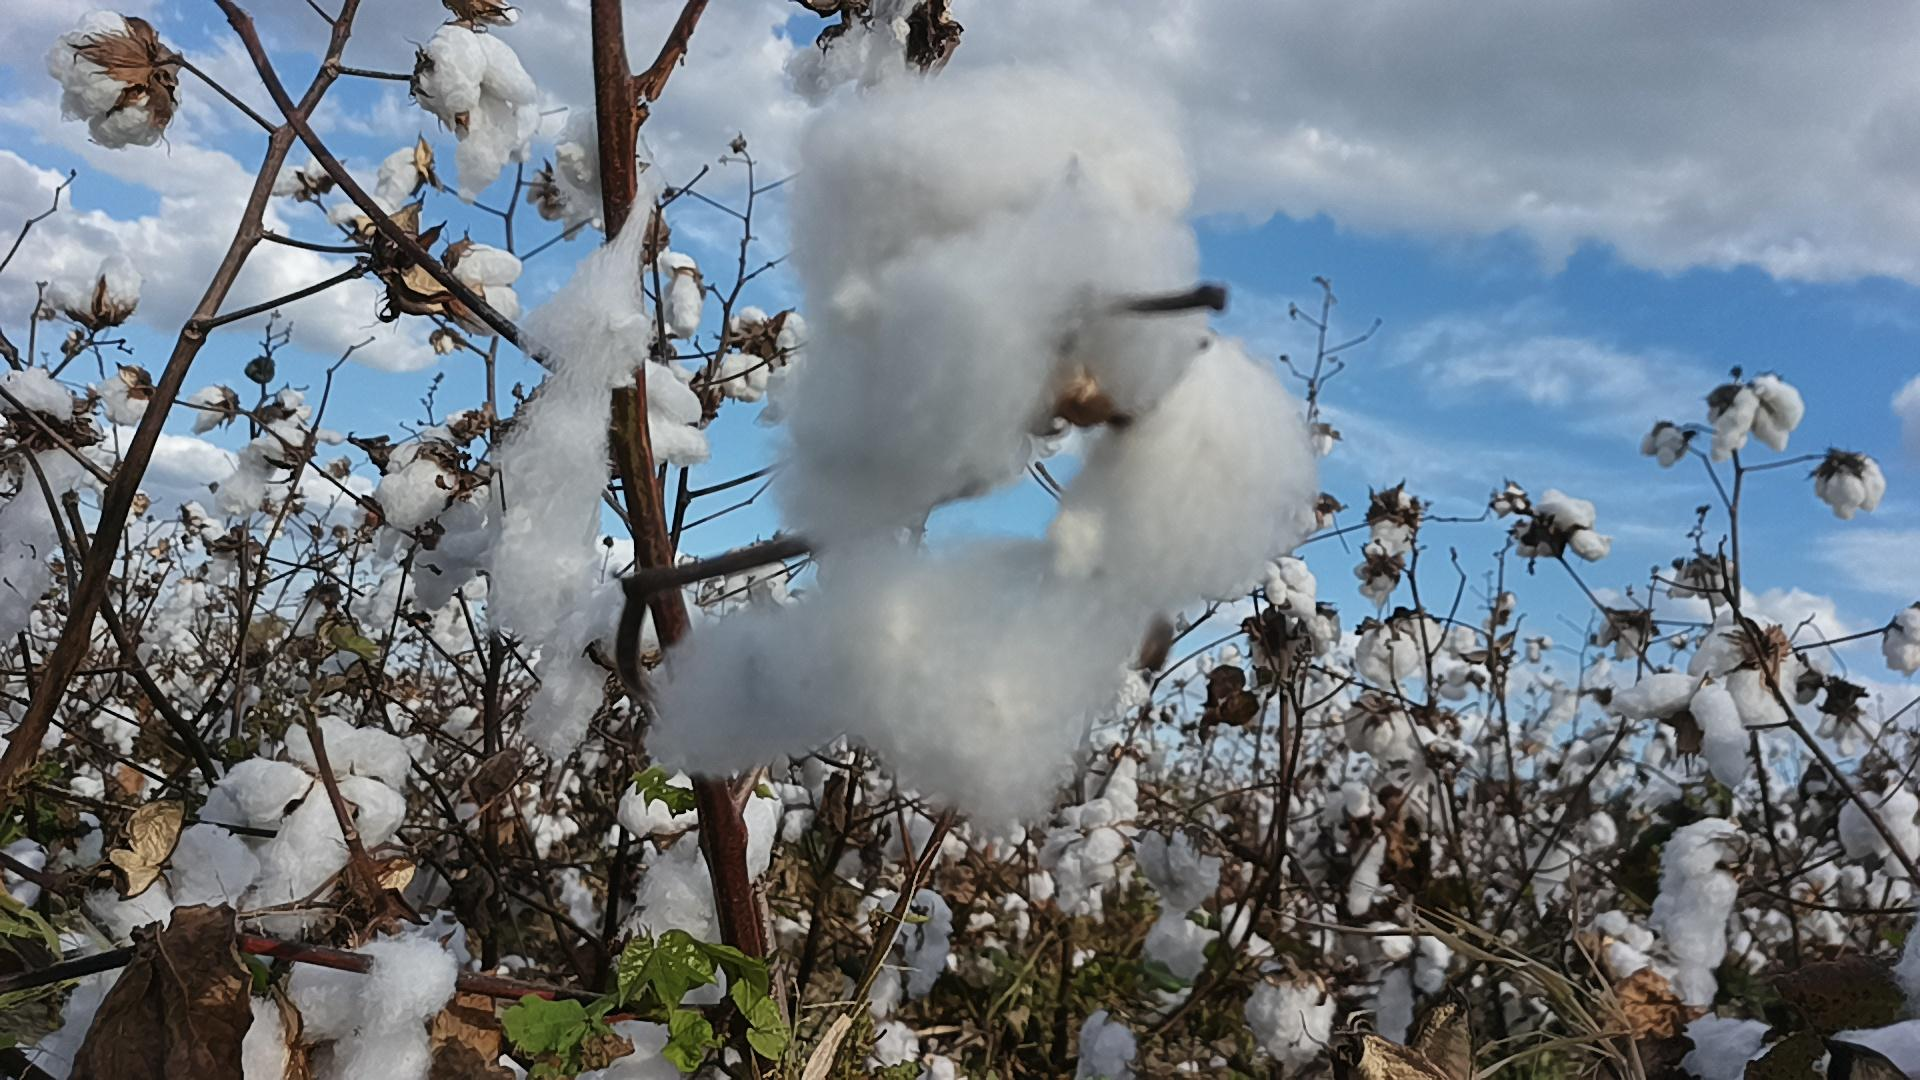cotton_ready: (650, 67, 1317, 825), (485, 149, 658, 766), (178, 758, 407, 944), (616, 770, 781, 1006), (50, 956, 290, 1080), (0, 368, 94, 651), (286, 934, 458, 1080), (0, 819, 170, 956), (382, 435, 493, 607), (1658, 818, 1749, 1010), (42, 12, 173, 145), (418, 30, 538, 173), (1622, 679, 1743, 783), (1685, 615, 1793, 725), (789, 0, 911, 95), (1038, 799, 1126, 926), (276, 717, 415, 785), (340, 148, 423, 251), (1146, 823, 1228, 920), (1250, 968, 1331, 1067), (555, 111, 622, 225), (576, 1018, 695, 1080), (444, 245, 524, 338), (1669, 1018, 1785, 1080), (1841, 789, 1916, 878), (646, 361, 711, 465), (1822, 1018, 1920, 1080), (47, 256, 138, 320)
